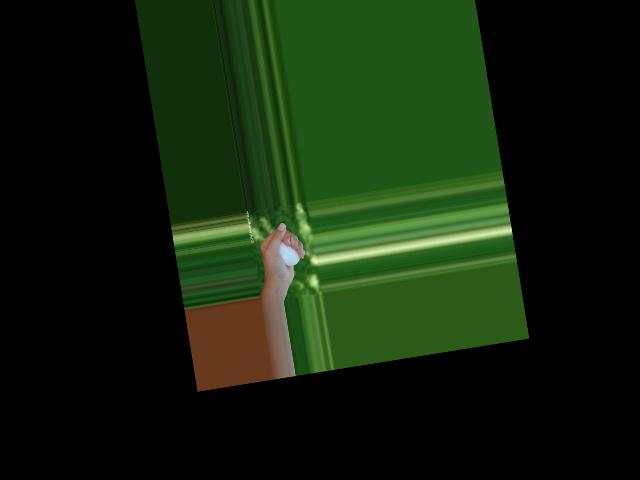egg: (278, 238, 300, 267)
